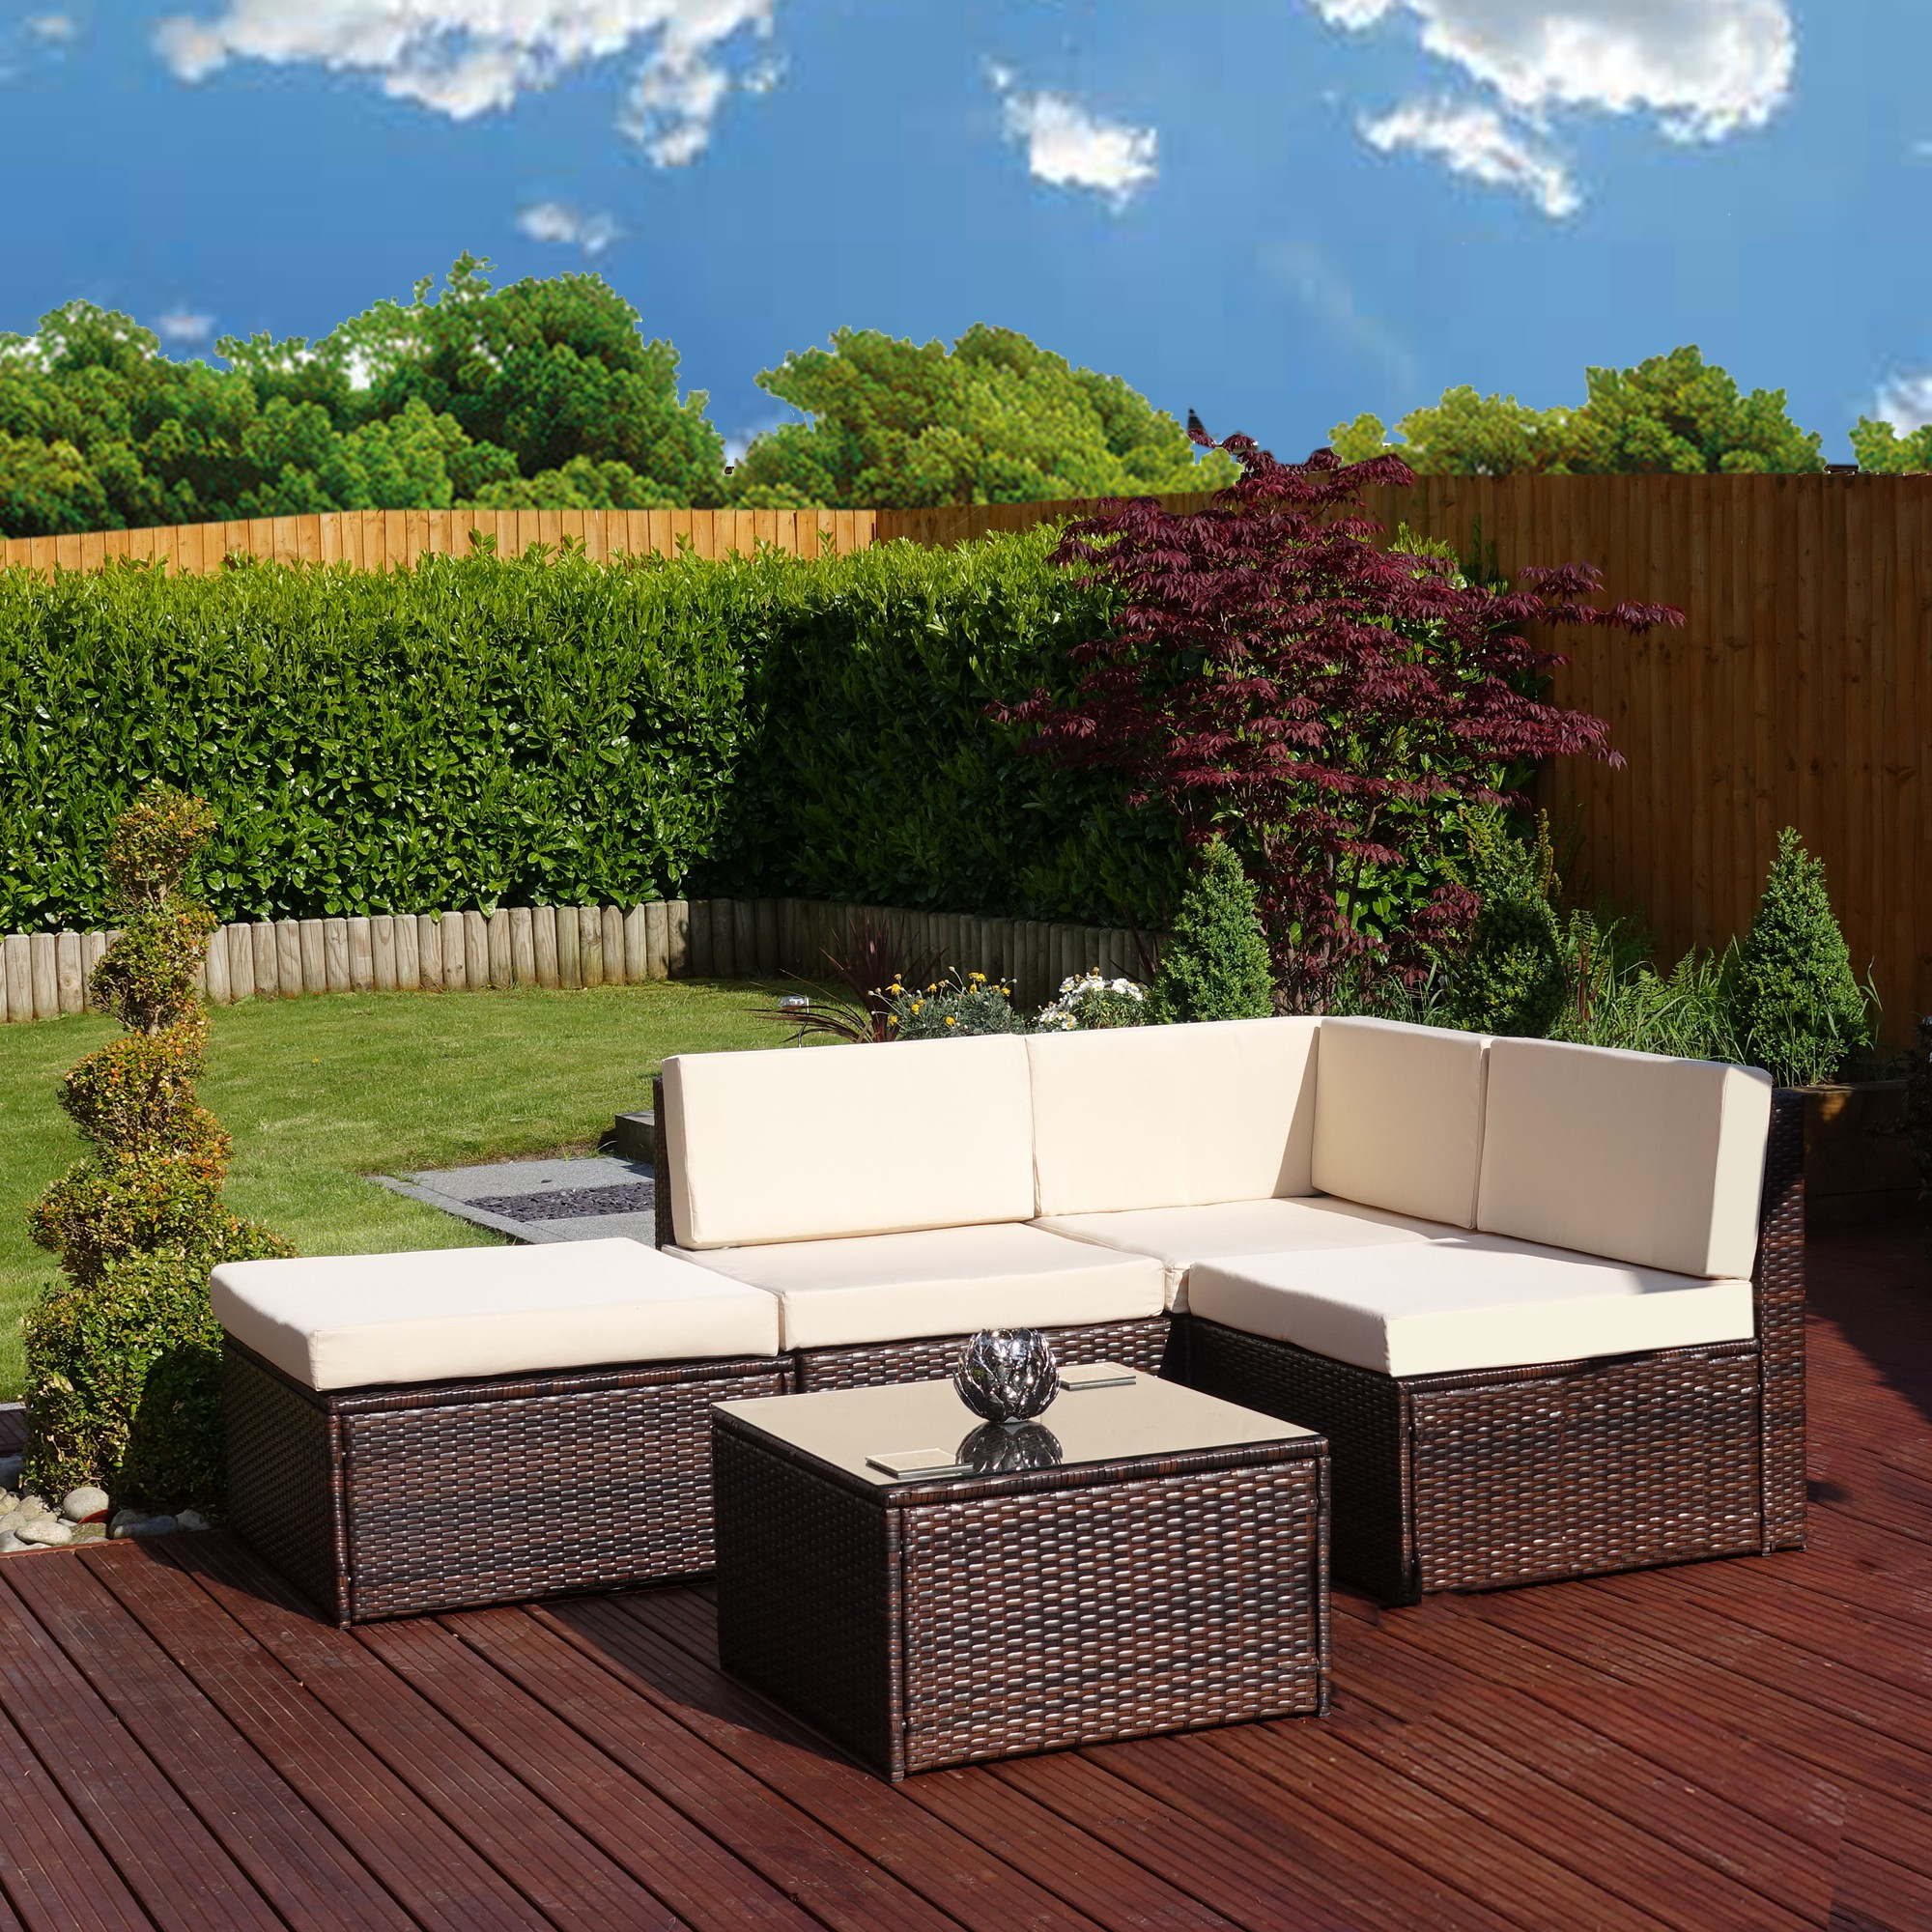chairs: (184, 1010, 1831, 1789)
